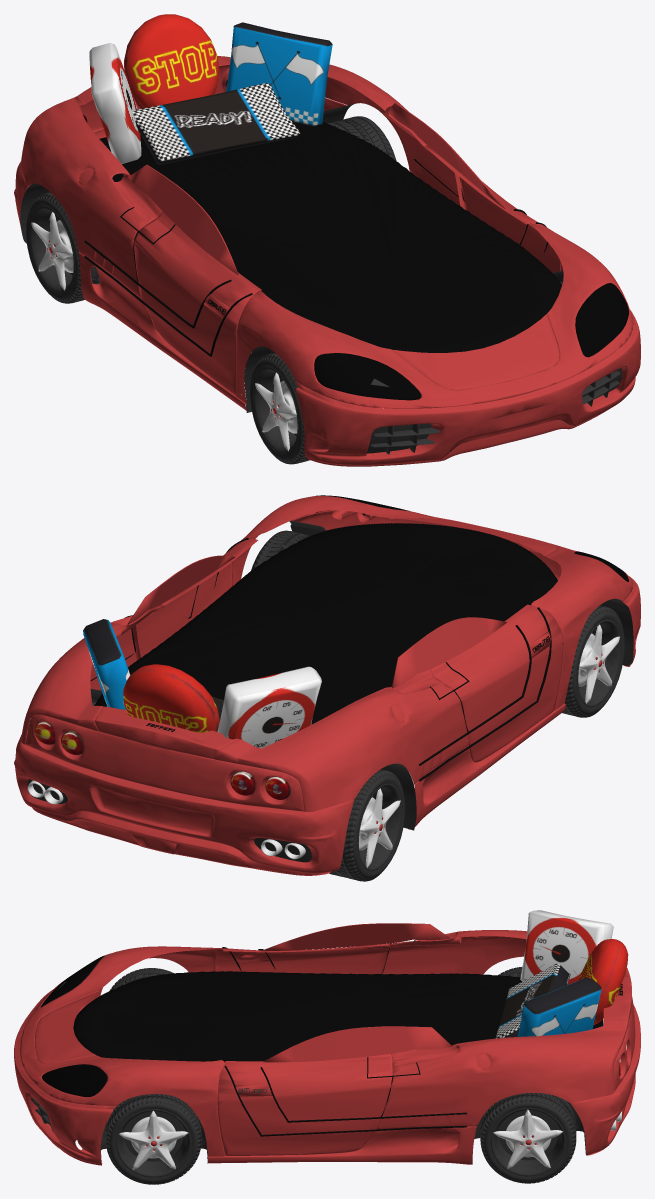
Rendered from car.gltf.
The picture shows the model from 3 angles, top to bottom: view 1: azimuth 30°, elevation 25°; view 2: azimuth 150°, elevation 25°; view 3: azimuth 270°, elevation 25°; orthographic projection. The views are drawn at different scales.
Visible parts, largest first — view 1: base, pillow02, pillow01, pillow04, pillow03; view 2: base, pillow03, pillow04, pillow01; view 3: base, pillow03, pillow01, pillow04, pillow02.
Boxes of the visible parts, x1,y1,x2,y2 form: base: [14, 56, 640, 466]; pillow02: [133, 83, 300, 164]; pillow01: [226, 22, 332, 126]; pillow04: [124, 14, 219, 108]; pillow03: [89, 43, 141, 163]; base: [14, 495, 640, 881]; pillow03: [217, 666, 321, 748]; pillow04: [123, 664, 219, 732]; pillow01: [83, 619, 130, 709]; base: [14, 923, 640, 1184]; pillow03: [520, 910, 613, 984]; pillow01: [517, 978, 601, 1036]; pillow04: [578, 939, 628, 1024]; pillow02: [495, 963, 569, 1038].
Size of the model in its own units: 47.57 by 28.08 by 90.44.
Materials: 14 (14 with a texture image).
